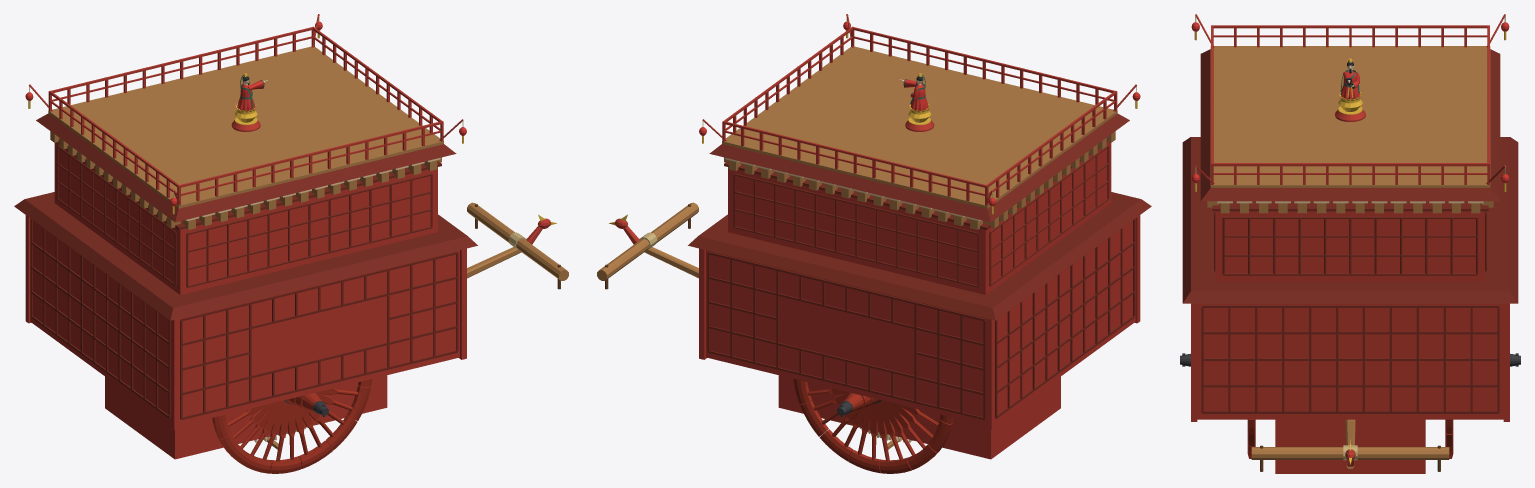
Rendered from chariot-differential.glb.
3 renders of one model, left to right at view 1: azimuth 30°, elevation 25°; view 2: azimuth 150°, elevation 25°; view 3: azimuth 270°, elevation 25°, orthographic. The views are drawn at different scales.
Parts seen in each view (by area): view 1: body.tier, body.top, body.side.R, body.end.B, wheel.R, body.pole, body.end.F, figure; view 2: body.tier, body.top, body.side.L, body.end.B, wheel.L, body.pole, body.end.F, figure; view 3: body.tier, body.end.F, body.top, body.pole, figure.
Part boxes in pixels (bbox=[...]): body.tier: bbox=[14, 113, 477, 320]; body.top: bbox=[25, 14, 466, 214]; body.side.R: bbox=[136, 250, 459, 458]; body.end.B: bbox=[25, 215, 179, 459]; wheel.R: bbox=[212, 379, 372, 473]; body.pole: bbox=[467, 202, 568, 289]; body.end.F: bbox=[459, 248, 466, 359]; figure: bbox=[235, 73, 267, 114]; body.tier: bbox=[688, 113, 1151, 320]; body.top: bbox=[699, 14, 1140, 214]; body.side.L: bbox=[706, 250, 1022, 459]; body.end.B: bbox=[986, 215, 1140, 459]; wheel.L: bbox=[793, 379, 953, 473]; body.pole: bbox=[597, 202, 698, 289]; body.end.F: bbox=[699, 248, 780, 407]; figure: bbox=[899, 73, 930, 114]; body.tier: bbox=[1182, 49, 1518, 303]; body.end.F: bbox=[1191, 303, 1509, 473]; body.top: bbox=[1191, 14, 1509, 191]; body.pole: bbox=[1251, 419, 1449, 471]; figure: bbox=[1339, 58, 1361, 103].
Size of the model in its own units: 17.53 by 13.08 by 10.36.
